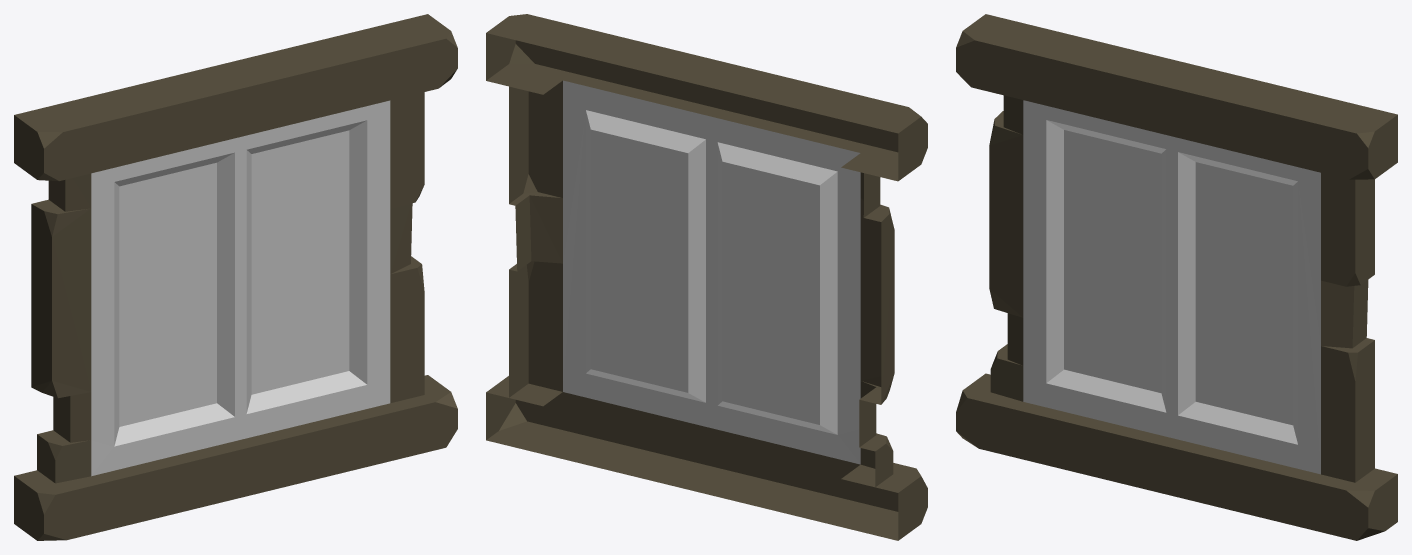
File: NW_CITY_WINDOW_STONE_OUT_01.OBJ
The picture shows the model from 3 angles, left to right: view 1: azimuth 30°, elevation 25°; view 2: azimuth 150°, elevation 25°; view 3: azimuth 330°, elevation 25°; orthographic projection.
Parts seen in each view (by area): view 1: NW_CITY_WINDOW_STONE_OUT_01; view 2: NW_CITY_WINDOW_STONE_OUT_01; view 3: NW_CITY_WINDOW_STONE_OUT_01.
Part boxes in pixels (x1,y1,x2,y2): NW_CITY_WINDOW_STONE_OUT_01: (14,14,457,540); NW_CITY_WINDOW_STONE_OUT_01: (486,14,927,540); NW_CITY_WINDOW_STONE_OUT_01: (956,14,1397,540).
Bounding box in the file's own units: 1.8 × 1.7 × 0.2253.
